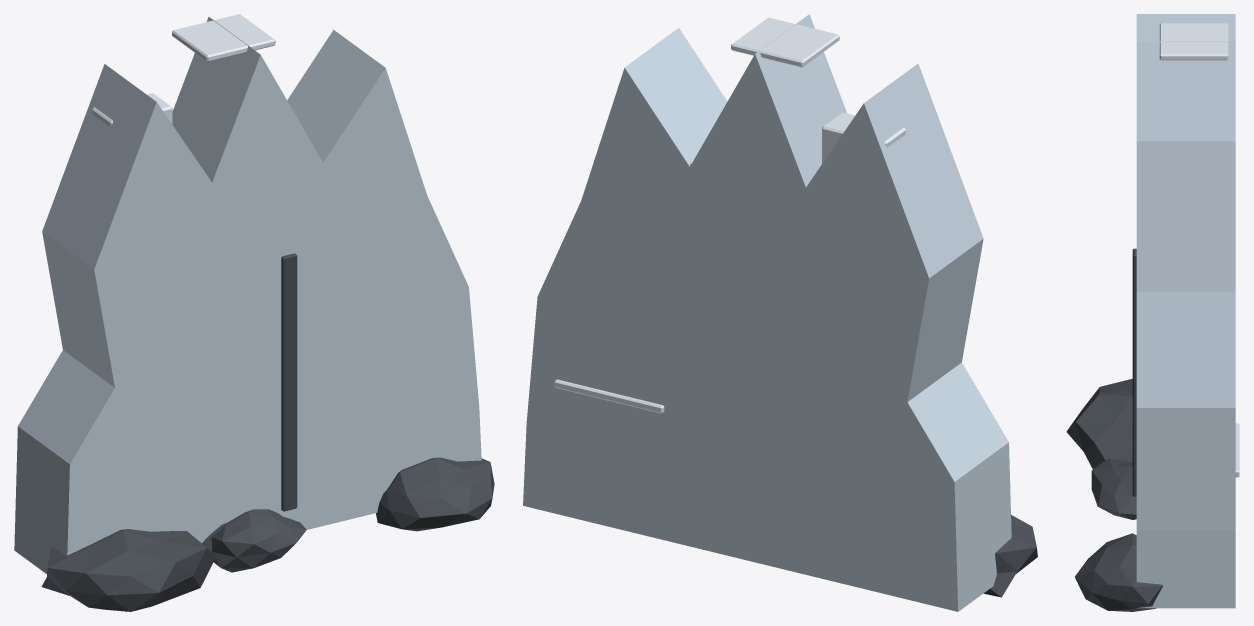
The model's file is MenuIceWall.fbx.
3 renders of one model, left to right at view 1: azimuth 30°, elevation 25°; view 2: azimuth 150°, elevation 25°; view 3: azimuth 270°, elevation 25°, orthographic. The views are drawn at different scales.
Parts seen in each view (by area): view 1: MenuIceWall; view 2: MenuIceWall; view 3: MenuIceWall.
Boxes of the visible parts, x1,y1,x2,y2 form: MenuIceWall: (14,14,494,611); MenuIceWall: (523,14,1037,611); MenuIceWall: (1066,14,1239,611).
Bounding box in the file's own units: 1289 × 1409 × 454.
